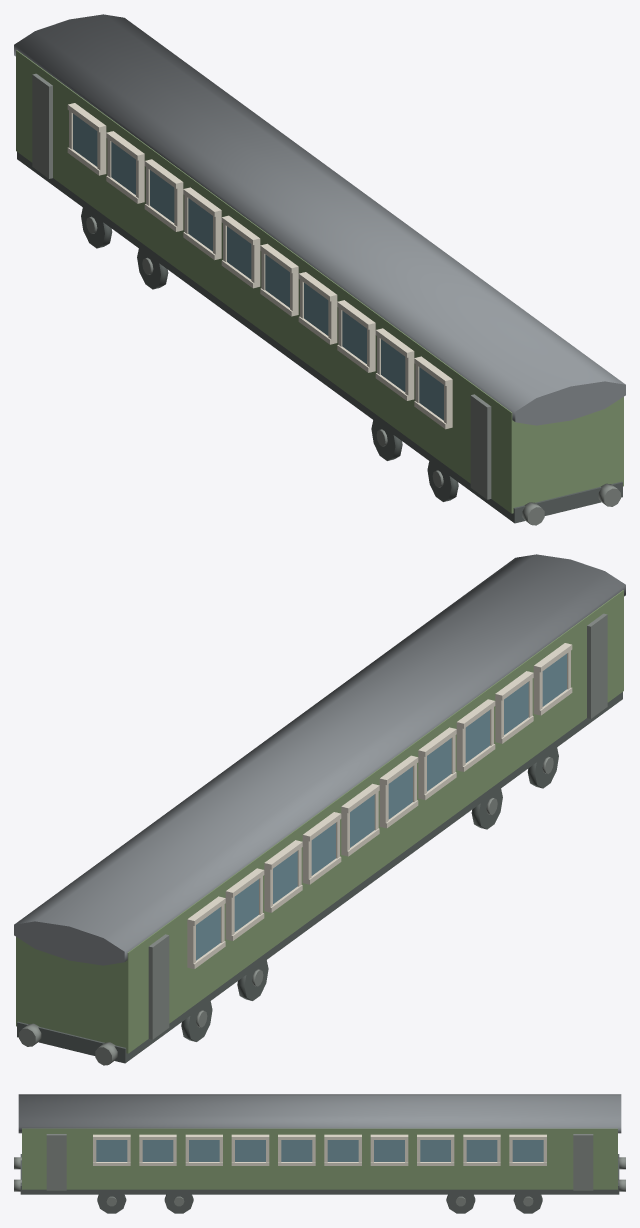
File: tyne-modern-coach_lod1.glb
3 renders of one model, top to bottom at view 1: azimuth 30°, elevation 25°; view 2: azimuth 150°, elevation 25°; view 3: azimuth 270°, elevation 25°, orthographic. The views are drawn at different scales.
Visible parts, largest first — view 1: RF_CoachRoof, RF_CoachBody, RF_Chassis, RF_RoofLowerMask, RF_CarDoor.001, RF_CarDoor.002, RF_Window.001, RF_Window.006, RF_Window.007, RF_Window.010, RF_Window.003, RF_Window.004 (+4 smaller); view 2: RF_CoachRoof, RF_CoachBody, RF_Chassis, RF_RoofLowerMask, RF_CarDoor.002, RF_CarDoor.001, RF_Window.001, RF_Window.004, RF_Window.005, RF_Window.010, RF_Window.002, RF_Window.006 (+4 smaller); view 3: RF_CoachBody, RF_CoachRoof, RF_Chassis, RF_CarDoor.003, RF_CarDoor, RF_RoofLowerMask, RF_Window.011, RF_Window.012, RF_Window.015, RF_Window.016, RF_Window.019, RF_Window (+18 smaller).
Boxes of the visible parts, x1=… form: RF_CoachRoof: x1=14, y1=14, x2=625, y2=425; RF_CoachBody: x1=16, y1=50, x2=623, y2=513; RF_Chassis: x1=17, y1=152, x2=622, y2=523; RF_RoofLowerMask: x1=16, y1=55, x2=623, y2=470; RF_CarDoor.001: x1=470, y1=394, x2=491, y2=499; RF_CarDoor.002: x1=32, y1=73, x2=52, y2=178; RF_Window.001: x1=419, y1=367, x2=443, y2=420; RF_Window.006: x1=227, y1=226, x2=251, y2=279; RF_Window.007: x1=188, y1=198, x2=212, y2=251; RF_Window.010: x1=73, y1=113, x2=97, y2=166; RF_Window.003: x1=342, y1=311, x2=366, y2=363; RF_Window.004: x1=304, y1=283, x2=328, y2=335; RF_CoachRoof: x1=14, y1=554, x2=625, y2=965; RF_CoachBody: x1=16, y1=590, x2=623, y2=1053; RF_Chassis: x1=17, y1=692, x2=622, y2=1063; RF_RoofLowerMask: x1=17, y1=595, x2=623, y2=1009; RF_CarDoor.002: x1=148, y1=934, x2=169, y2=1039; RF_CarDoor.001: x1=587, y1=613, x2=607, y2=718; RF_Window.001: x1=542, y1=653, x2=566, y2=706; RF_Window.004: x1=427, y1=738, x2=451, y2=791; RF_Window.005: x1=388, y1=766, x2=412, y2=819; RF_Window.010: x1=196, y1=907, x2=220, y2=960; RF_Window.002: x1=504, y1=682, x2=528, y2=734; RF_Window.006: x1=350, y1=794, x2=374, y2=847; RF_CoachBody: x1=22, y1=1128, x2=617, y2=1189; RF_CoachRoof: x1=18, y1=1094, x2=621, y2=1133; RF_Chassis: x1=20, y1=1154, x2=619, y2=1194; RF_CarDoor.003: x1=46, y1=1134, x2=66, y2=1190; RF_CarDoor: x1=573, y1=1134, x2=593, y2=1190; RF_RoofLowerMask: x1=22, y1=1131, x2=617, y2=1163; RF_Window.011: x1=96, y1=1140, x2=127, y2=1161; RF_Window.012: x1=142, y1=1140, x2=173, y2=1161; RF_Window.015: x1=281, y1=1140, x2=312, y2=1161; RF_Window.016: x1=327, y1=1140, x2=358, y2=1161; RF_Window.019: x1=466, y1=1140, x2=497, y2=1161; RF_Window: x1=512, y1=1140, x2=543, y2=1161.
Size of the model in its own units: 3.16 by 3.73 by 21.98.
